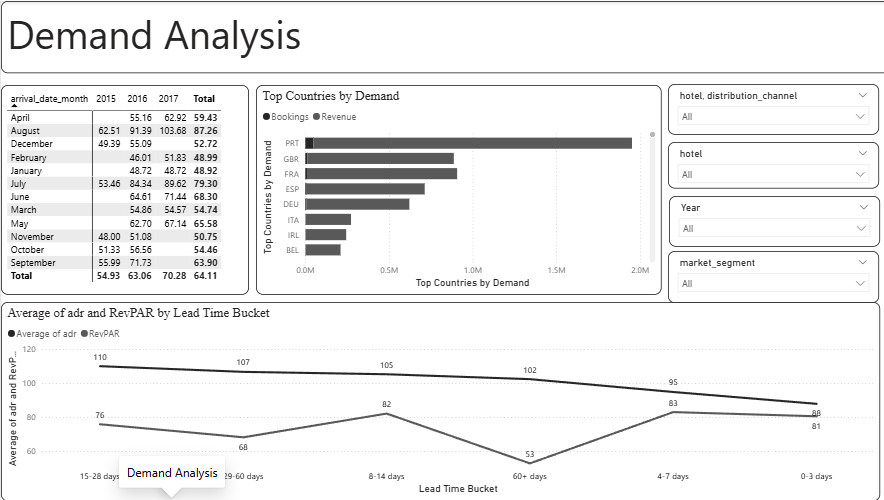

The page's visual inventory and layout, read from the dashboard file:
{"tool":"powerbi","page":{"name":"Demand Analysis","canvas":[1280,720],"ordinal":1},"visuals":[{"type":"textbox","box":[0,0,1280,104.3],"z":0},{"type":"slicer","fields":{"Values":["hotel_bookings.hotel"]},"box":[960.8,202.4,303.6,67],"z":1000},{"type":"pivotTable","fields":{"Rows":["hotel_bookings.arrival_date_month"],"Values":["hotel_bookings.RevPAR"],"Columns":["hotel_bookings.arrival_date_year"]},"box":[0,121.5,356.6,302.1],"z":2000},{"type":"slicer","fields":{"Values":["hotel_bookings.reservation_status_date.Variation.Date Hierarchy.Year"]},"box":[962.3,280.3,303.6,73.2],"z":3000},{"type":"barChart","title":"Top Countries by Demand","fields":{"Category":["hotel_bookings.country"],"Y":["hotel_bookings.Bookings","hotel_bookings.Revenue"]},"box":[367.5,121.5,583.9,302.1],"z":4000},{"type":"slicer","fields":{"Values":["hotel_bookings.market_segment"]},"box":[960.8,359.7,303.6,74.7],"z":5000},{"type":"lineChart","fields":{"Category":["hotel_bookings.Lead Time Bucket"],"Y":["Avg(hotel_bookings.adr)","hotel_bookings.RevPAR"]},"box":[0,432.9,1266,286.5],"z":6000},{"type":"slicer","fields":{"Values":["hotel_bookings.hotel","hotel_bookings.distribution_channel"]},"box":[960.8,119.9,303.6,73.2],"z":7000}]}

Visuals, with their boxes in screenshot pixels (x1, y1, x2, y2), scaled from the page's 1280x720 canvas onto the 884x500 screenshot:
textbox: (x1=0, y1=0, x2=883, y2=72)
slicer - hotel_bookings.hotel: (x1=664, y1=141, x2=873, y2=187)
pivotTable - hotel_bookings.arrival_date_month x hotel_bookings.RevPAR: (x1=0, y1=84, x2=246, y2=294)
slicer - hotel_bookings.reservation_status_date.Variation.Date Hierarchy.Year: (x1=665, y1=195, x2=874, y2=245)
"Top Countries by Demand" barChart: (x1=254, y1=84, x2=657, y2=294)
slicer - hotel_bookings.market_segment: (x1=664, y1=250, x2=873, y2=302)
lineChart - hotel_bookings.Lead Time Bucket x Avg(hotel_bookings.adr): (x1=0, y1=301, x2=874, y2=499)
slicer - hotel_bookings.hotel x hotel_bookings.distribution_channel: (x1=664, y1=83, x2=873, y2=134)
